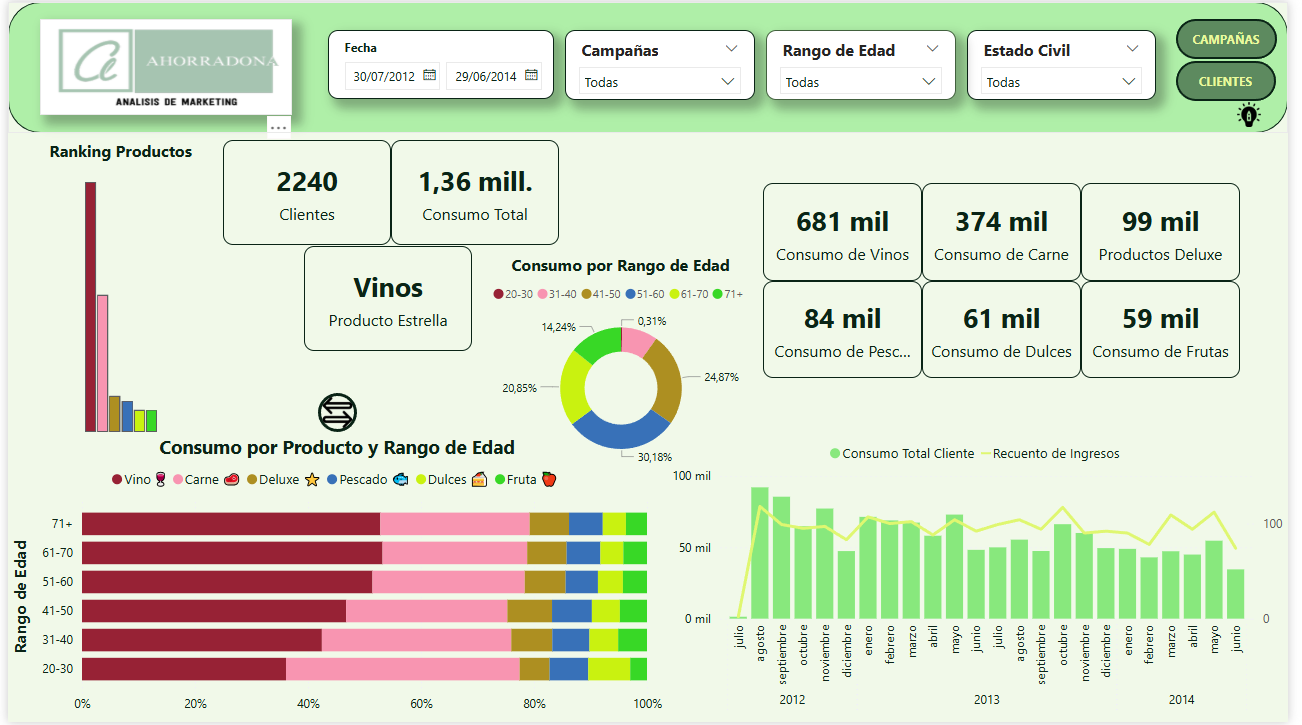

This screenshot's page, from the dashboard's own definition file:
{"tool":"powerbi","page":{"name":"Resumen General","canvas":[1280,720],"ordinal":0},"visuals":[{"type":"shape","box":[0,0,1280,131.1],"z":0,"group":"g3"},{"type":"card","fields":{"Values":["DAX Medidas.Total Clientes"]},"box":[215.3,138.2,168.1,104.9],"z":0,"group":"g2"},{"type":"card","fields":{"Values":["DAX Medidas.Consumo Total P.Gold"]},"box":[1073.1,180.8,159.1,97.7],"z":0,"group":"g1"},{"type":"actionButton","title":"BotónLight/Dark","box":[1228.8,100,24.3,25.2],"z":500,"group":"g3"},{"type":"actionButton","title":"Botón Campañas","box":[1168.4,59.2,100,39.5],"z":625,"group":"g3"},{"type":"actionButton","title":"Botón Campañas","box":[1168.4,17.2,100.1,40],"z":750,"group":"g3"},{"type":"image","box":[31.9,17.3,252.5,95.7],"z":1000,"group":"g3"},{"type":"card","fields":{"Values":["DAX Medidas.Gasto Total Cliente"]},"box":[383.4,138.2,168.1,104.9],"z":1000,"group":"g2"},{"type":"card","fields":{"Values":["DAX Medidas.Consumo Total Frutas"]},"box":[1073.1,278.5,159.1,97.7],"z":1000,"group":"g1"},{"type":"slicer","fields":{"Values":["d_Clientes.Estado Civil"]},"box":[958.5,27.7,189.4,70.2],"z":1500,"group":"g3"},{"type":"donutChart","title":"Consumo por Rango de Edad","fields":{"Category":["d_Clientes.Rango de Edad"],"Y":["CountNonNull(d_Productos.Gasto Total Producto)"]},"box":[478.7,252.1,268.1,220.2],"z":1500},{"type":"slicer","title":"Fecha","fields":{"Values":["d_Calendario.Fecha"]},"box":[320.2,27.7,225.5,69.1],"z":2000,"group":"g3"},{"type":"card","fields":{"Values":["DAX Medidas.Producto Preferido"]},"box":[296.1,244.3,168.1,104.9],"z":2000,"group":"g2"},{"type":"card","fields":{"Values":["DAX Medidas.Consumo Total Dulces"]},"box":[914.1,278.5,159.1,97.7],"z":2000,"group":"g1"},{"type":"hundredPercentStackedBarChart","title":"Consumo por Producto y Rango de Edad","fields":{"Y":["Sum(d_Productos.MntWines)","Sum(d_Productos.MntMeatProducts)","Sum(d_Productos.MntGoldProds)","Sum(d_Productos.MntFishProducts)","Sum(d_Productos.MntSweetProducts)","Sum(d_Productos.MntFruits)"],"Category":["d_Clientes.Rango de Edad"]},"box":[0,432,659.3,288.4],"z":2000},{"type":"actionButton","title":"Botón ON","box":[309.6,391.5,39.4,38.3],"z":2500},{"type":"slicer","fields":{"Values":["d_Campañas.Campañas Aceptadas"]},"box":[556.5,27.7,190.4,70.2],"z":3000,"group":"g3"},{"type":"card","fields":{"Values":["DAX Medidas.Consumo Total Pescado"]},"box":[755,278.5,159.1,97.7],"z":3000,"group":"g1"},{"type":"lineStackedColumnComboChart","fields":{"Y":["DAX Medidas.Consumo Total Cliente"],"Y2":["CountNonNull(d_Clientes.Ingresos)"],"Category":["d_Calendario.Fecha.Variación.Jerarquía de fechas.Año","d_Calendario.Fecha.Variación.Jerarquía de fechas.Mes"]},"box":[659.3,430.5,620.7,289.2],"z":3000},{"type":"slicer","fields":{"Values":["d_Clientes.Rango de Edad"]},"box":[757.7,27.7,190,70],"z":4000,"group":"g3"},{"type":"clusteredColumnChart","title":"Ranking Productos","fields":{"Y":["Sum(d_Productos.MntWines)","Sum(d_Productos.MntMeatProducts)","Sum(d_Productos.MntGoldProds)","Sum(d_Productos.MntFishProducts)","Sum(d_Productos.MntSweetProducts)","Sum(d_Productos.MntFruits)"]},"box":[0,138.2,226,297.7],"z":4000},{"type":"card","fields":{"Values":["DAX Medidas.Consumo Total Vinos"]},"box":[755,180.8,159.1,97.7],"z":4000,"group":"g1"},{"type":"group","id":"g1","title":"Indicadores Consumo Individual","box":[755,180.8,477.2,195.4],"z":5000},{"type":"card","fields":{"Values":["DAX Medidas.Consumo Total Carne"]},"box":[914.1,180.8,159.1,97.7],"z":5000,"group":"g1"},{"type":"group","id":"g2","title":"Indicadores General","box":[215.3,138.2,336.3,211.3],"z":6000},{"type":"group","id":"g3","title":"Panel Superior","box":[0,0,1280,131.1],"z":8000}]}

Visuals, with their boxes in screenshot pixels (x1, y1, x2, y2), scaled from the page's 1280x720 canvas onto the 1302x725 screenshot:
shape: crop(0, 0, 1301, 132)
card - DAX Medidas.Total Clientes: crop(219, 139, 390, 245)
card - DAX Medidas.Consumo Total P.Gold: crop(1092, 182, 1253, 280)
"BotónLight/Dark" actionButton: crop(1250, 101, 1275, 126)
"Botón Campañas" actionButton: crop(1188, 60, 1290, 99)
"Botón Campañas" actionButton: crop(1188, 17, 1290, 58)
image: crop(32, 17, 289, 114)
card - DAX Medidas.Gasto Total Cliente: crop(390, 139, 561, 245)
card - DAX Medidas.Consumo Total Frutas: crop(1092, 280, 1253, 379)
slicer - d_Clientes.Estado Civil: crop(975, 28, 1168, 99)
"Consumo por Rango de Edad" donutChart: crop(487, 254, 760, 476)
"Fecha" slicer: crop(326, 28, 555, 97)
card - DAX Medidas.Producto Preferido: crop(301, 246, 472, 352)
card - DAX Medidas.Consumo Total Dulces: crop(930, 280, 1092, 379)
"Consumo por Producto y Rango de Edad" hundredPercentStackedBarChart: crop(0, 435, 671, 724)
"Botón ON" actionButton: crop(315, 394, 355, 433)
slicer - d_Campañas.Campañas Aceptadas: crop(566, 28, 760, 99)
card - DAX Medidas.Consumo Total Pescado: crop(768, 280, 930, 379)
lineStackedColumnComboChart - DAX Medidas.Consumo Total Cliente x CountNonNull(d_Clientes.Ingresos): crop(671, 433, 1301, 724)
slicer - d_Clientes.Rango de Edad: crop(771, 28, 964, 98)
"Ranking Productos" clusteredColumnChart: crop(0, 139, 230, 439)
card - DAX Medidas.Consumo Total Vinos: crop(768, 182, 930, 280)
"Indicadores Consumo Individual" group: crop(768, 182, 1253, 379)
card - DAX Medidas.Consumo Total Carne: crop(930, 182, 1092, 280)
"Indicadores General" group: crop(219, 139, 561, 352)
"Panel Superior" group: crop(0, 0, 1301, 132)
